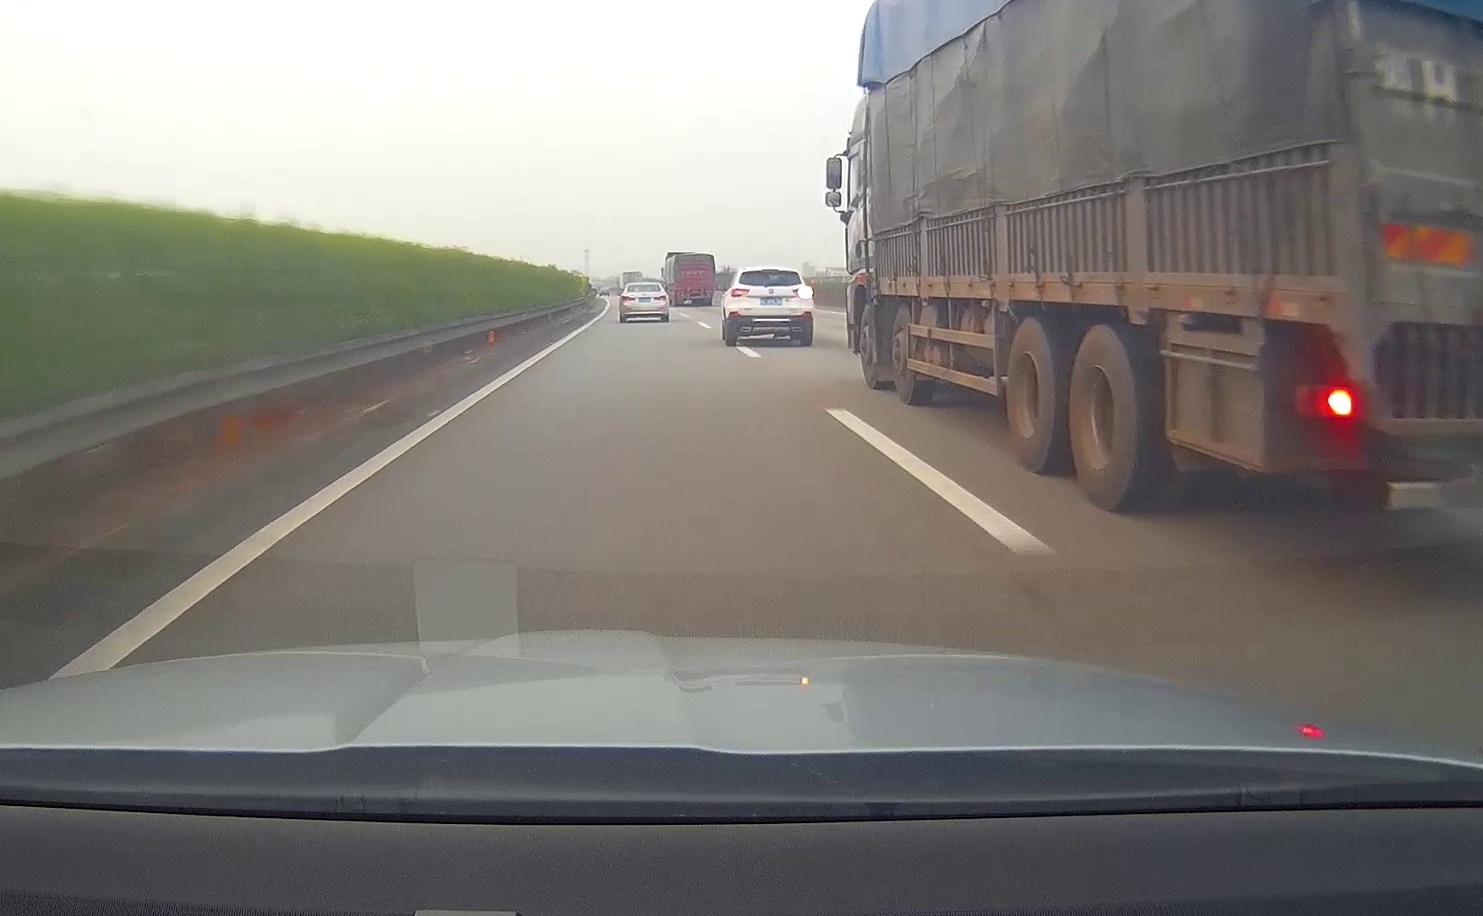L_light: (730, 288, 750, 297), (622, 297, 635, 302)
R_light: (793, 287, 812, 298), (653, 295, 667, 301)
T_light: (762, 269, 778, 272), (640, 284, 649, 287)
day-no: (620, 282, 669, 322)
day-right: (726, 267, 814, 346)
